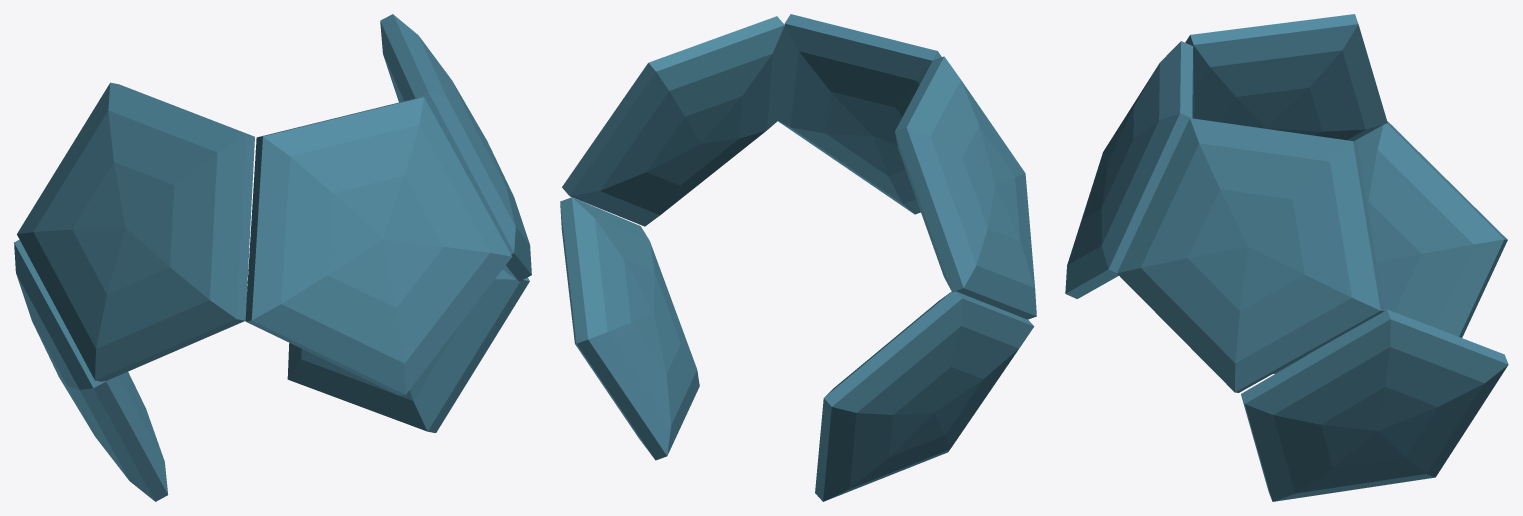
File: PFC_Fivepent.fbx
The picture shows the model from 3 angles, left to right: view 1: azimuth 30°, elevation 25°; view 2: azimuth 150°, elevation 25°; view 3: azimuth 270°, elevation 25°; orthographic projection. The views are drawn at different scales.
Parts seen in each view (by area): view 1: Pent.022; view 2: Pent.022; view 3: Pent.022.
Part boxes in pixels (x1=…): Pent.022: x1=14, y1=14, x2=531, y2=501; Pent.022: x1=560, y1=14, x2=1036, y2=501; Pent.022: x1=1065, y1=14, x2=1508, y2=501.
Size of the model in its own units: 313 by 264 by 295.
